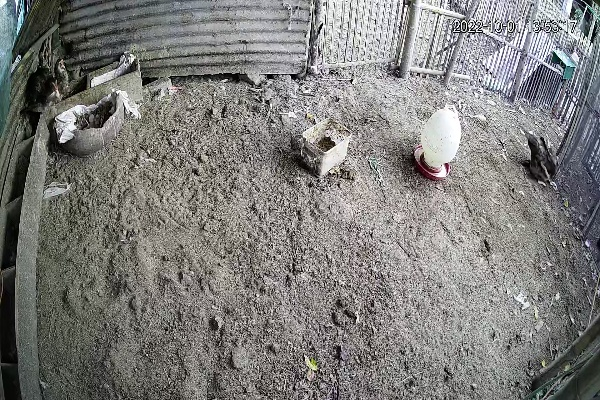Kawin: (513, 123, 568, 200)
